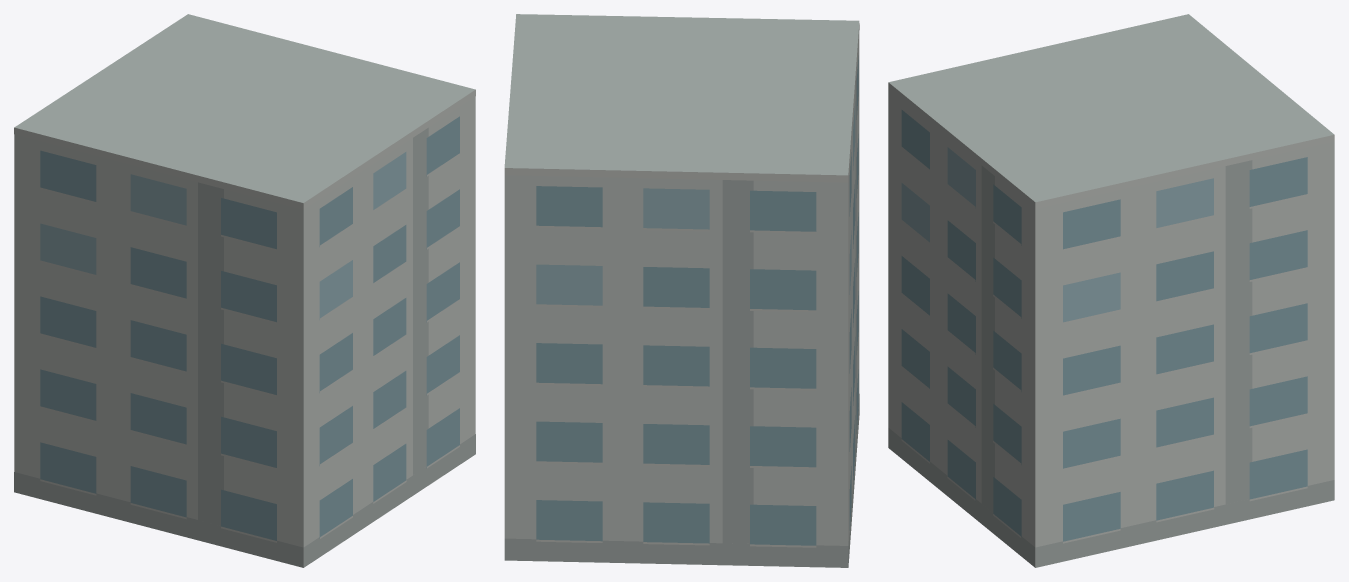
The model's file is survey-upis-32833021.glb.
3 renders of one model, left to right at view 1: azimuth 30°, elevation 25°; view 2: azimuth 150°, elevation 25°; view 3: azimuth 270°, elevation 25°, orthographic. The views are drawn at different scales.
Parts seen in each view (by area): view 1: survey-upis-32833021.tmp; view 2: survey-upis-32833021.tmp; view 3: survey-upis-32833021.tmp.
Part boxes in pixels (box(x1,y1,x2,y2)): survey-upis-32833021.tmp: box(14, 14, 475, 567); survey-upis-32833021.tmp: box(504, 14, 859, 567); survey-upis-32833021.tmp: box(888, 14, 1334, 567).
Size of the model in its own units: 14.48 by 13.1 by 14.51.
